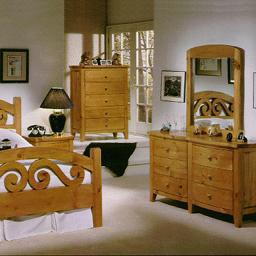Armario: (73, 67, 135, 136)
Cama: (3, 101, 103, 242)
Escaleras: (80, 139, 150, 179)
